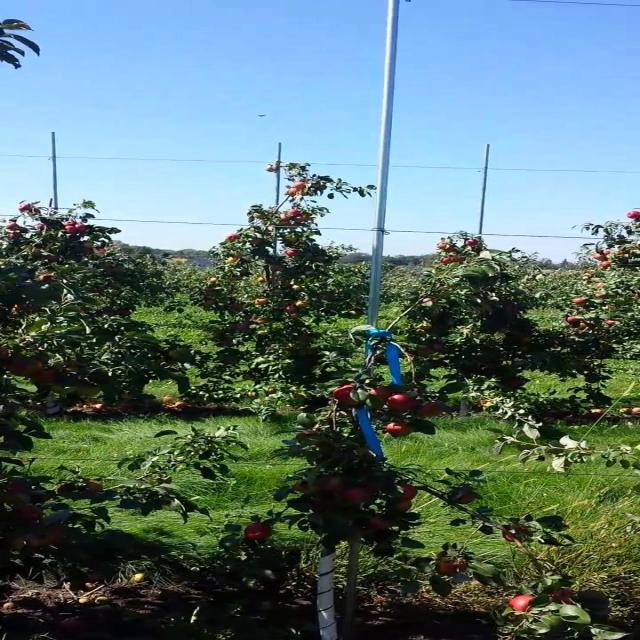apple: (333, 388, 361, 407), (13, 360, 44, 376), (390, 396, 420, 412), (419, 404, 448, 419), (554, 588, 578, 605), (42, 528, 66, 545), (504, 528, 530, 543), (13, 508, 43, 521), (248, 524, 272, 540), (319, 476, 343, 492), (511, 596, 533, 612), (440, 564, 469, 576), (397, 488, 420, 503), (6, 492, 28, 507), (369, 388, 395, 400), (35, 372, 57, 386), (348, 488, 370, 502), (390, 424, 412, 437), (369, 516, 391, 529), (504, 380, 526, 391), (56, 384, 76, 396), (13, 536, 28, 551), (298, 484, 318, 495), (84, 484, 107, 493), (77, 388, 100, 397), (6, 484, 28, 493), (404, 488, 420, 499), (28, 536, 44, 547), (56, 488, 76, 496), (298, 432, 315, 441), (397, 504, 412, 514), (461, 496, 476, 504), (63, 368, 80, 373)
